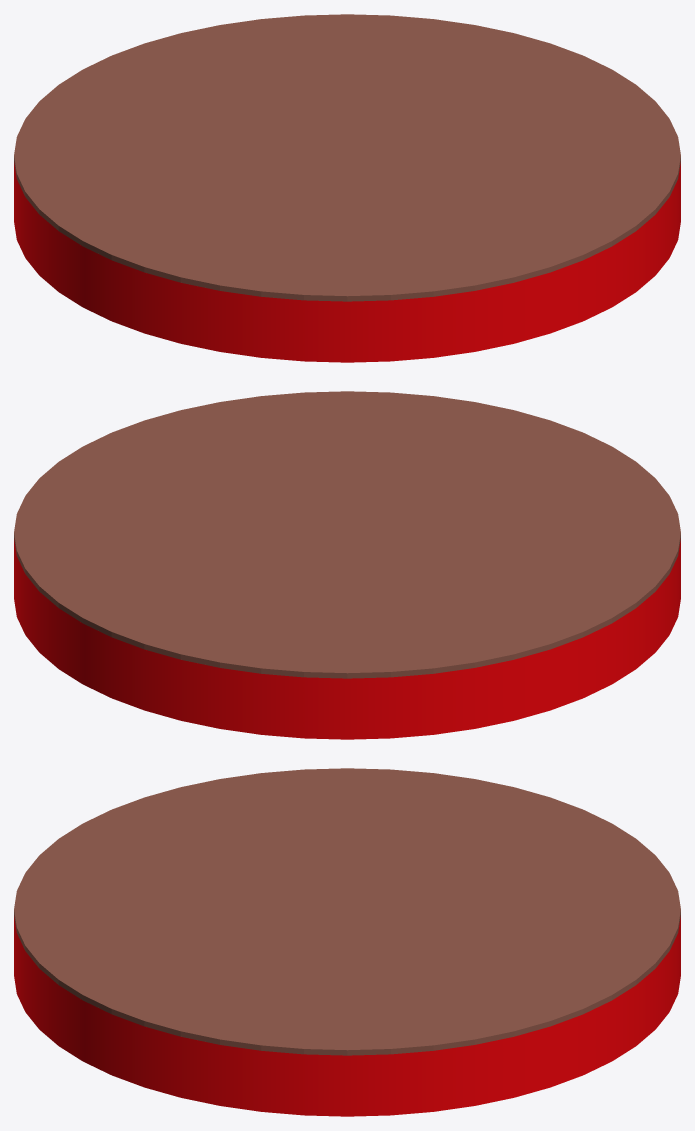
The model's file is target_for_maximka2.fbx.
3 views of the same model, one above another, from view 1: azimuth 30°, elevation 25°; view 2: azimuth 150°, elevation 25°; view 3: azimuth 270°, elevation 25° (orthographic).
Parts seen in each view (by area): view 1: back, out; view 2: back, out; view 3: back, out.
Boxes of the visible parts, x1=… form: back: x1=14, y1=14, x2=680, y2=301; out: x1=14, y1=162, x2=680, y2=362; back: x1=14, y1=391, x2=680, y2=678; out: x1=14, y1=539, x2=680, y2=739; back: x1=14, y1=768, x2=680, y2=1055; out: x1=14, y1=916, x2=680, y2=1116.
Size of the model in its own units: 99 by 10.89 by 99.
